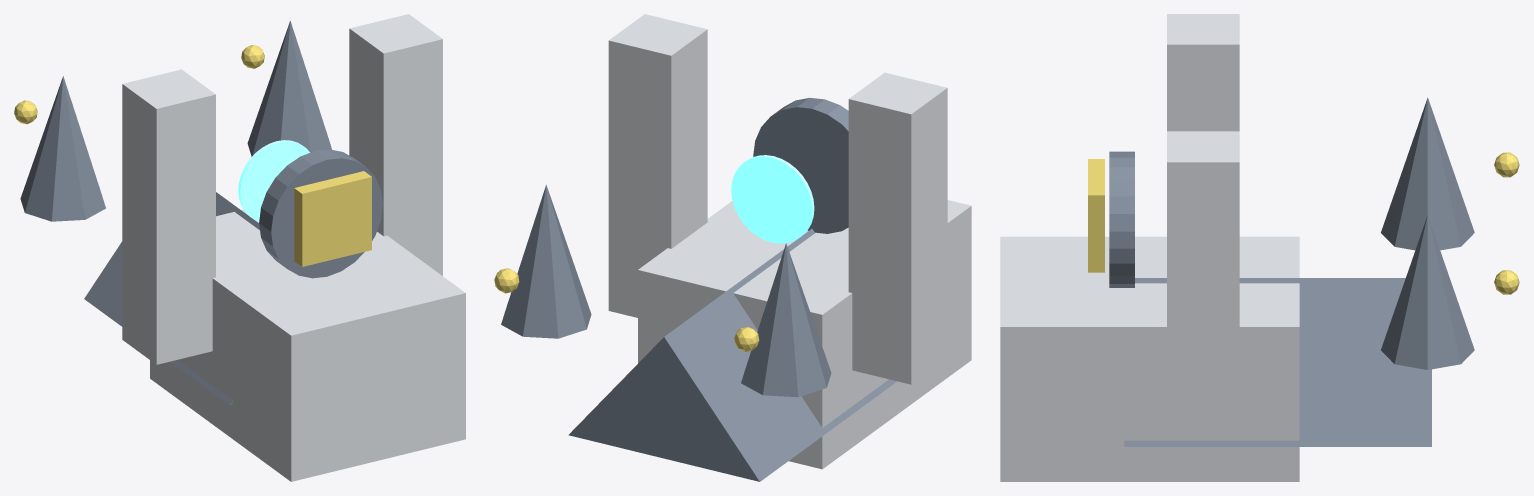
Rendered from sanctuary_temple.glb.
3 views of the same model, side by side, from view 1: azimuth 30°, elevation 25°; view 2: azimuth 150°, elevation 25°; view 3: azimuth 270°, elevation 25° (orthographic). The views are drawn at different scales.
Visible parts, largest first — view 1: Cube, Cube.001, Cube.002, Cone, Cube.003, Cylinder.001, Cone.001, Cylinder, Cylinder.002; view 2: Cube.001, Cube, Cylinder, Cube.002, Cylinder.001, Cone.001, Cone, Cylinder.002; view 3: Cube, Cube.002, Cylinder, Cube.001, Cone.001, Cone, Cylinder.001, Cube.003.
Boxes of the visible parts, x1,y1,x2,y2 form: Cube: (150,209,465,481); Cube.001: (122,69,215,364); Cube.002: (349,14,442,275); Cone: (20,76,105,221); Cube.003: (294,171,371,266); Cylinder.001: (259,149,382,278); Cone.001: (247,21,331,156); Cylinder: (84,192,259,405); Cylinder.002: (238,140,309,221); Cube.001: (848,72,947,384); Cube: (638,200,971,469); Cylinder: (568,229,896,481); Cube.002: (608,14,707,317); Cylinder.001: (753,97,848,233); Cone.001: (501,185,591,338); Cone: (741,243,831,397); Cylinder.002: (731,155,814,243); Cube: (1000,236,1299,481); Cube.002: (1167,131,1239,433); Cylinder: (1124,278,1431,446); Cube.001: (1167,14,1239,131); Cone.001: (1381,215,1474,369); Cone: (1381,97,1474,250); Cylinder.001: (1109,151,1134,287); Cube.003: (1088,159,1104,272).
Bounding box in the file's own units: 17.4 × 18 × 24.3.
